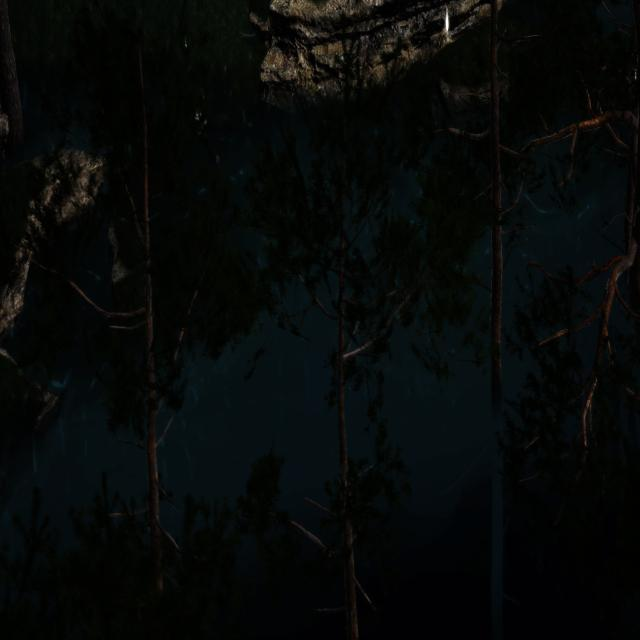Human: (178, 82, 246, 170)
